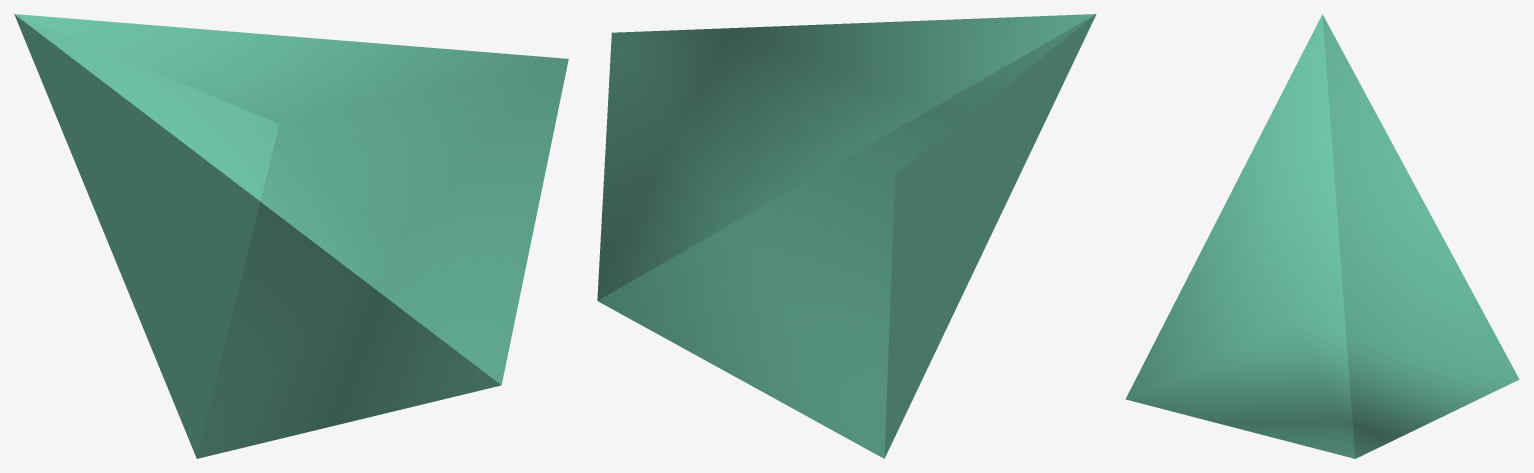
3 views of the same model, side by side, from view 1: azimuth 30°, elevation 25°; view 2: azimuth 150°, elevation 25°; view 3: azimuth 270°, elevation 25° (orthographic). The views are drawn at different scales.
Size of the model in its own units: 5.5 by 5 by 4.8.
